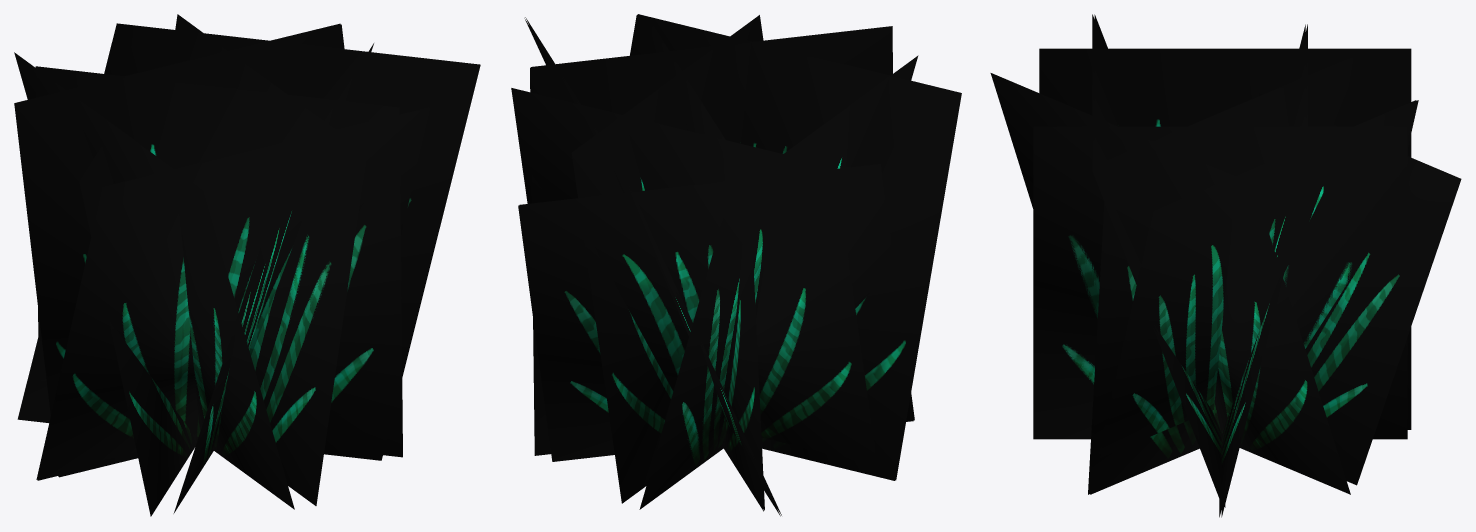
The model's file is VegetationGroupBush01(2SideLeafs).fbx.
The picture shows the model from 3 angles, left to right: view 1: azimuth 30°, elevation 25°; view 2: azimuth 150°, elevation 25°; view 3: azimuth 270°, elevation 25°; orthographic projection.
Visible parts, largest first — view 1: BushGrass02.(2SideLeave); view 2: BushGrass02.(2SideLeave); view 3: BushGrass02.(2SideLeave).
Boxes of the visible parts, left/top/right/bottom form: BushGrass02.(2SideLeave): left=14, top=14, right=480, bottom=516; BushGrass02.(2SideLeave): left=511, top=14, right=961, bottom=516; BushGrass02.(2SideLeave): left=990, top=14, right=1461, bottom=517.
Size of the model in its own units: 62.67 by 50 by 63.3.
